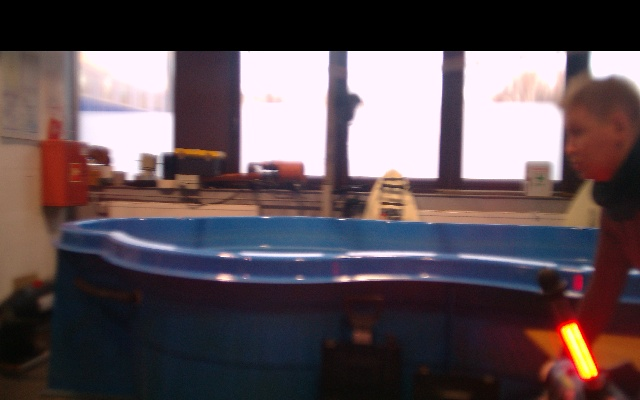red: (559, 321, 599, 381)
